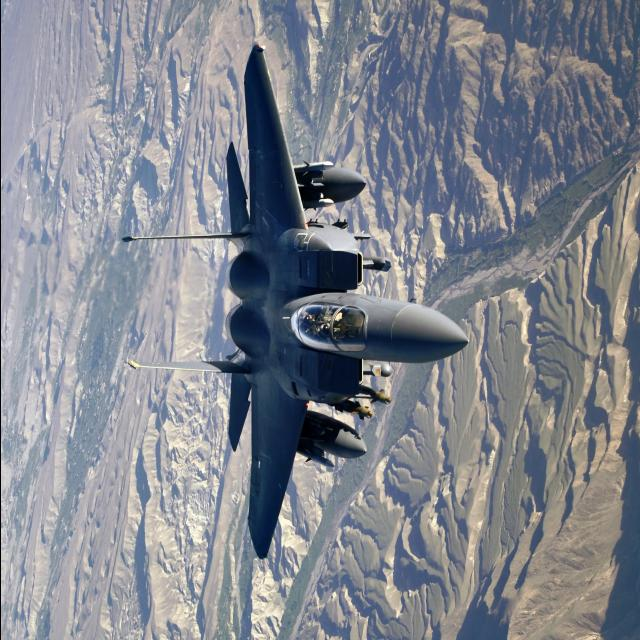F15: (89, 24, 482, 562)
